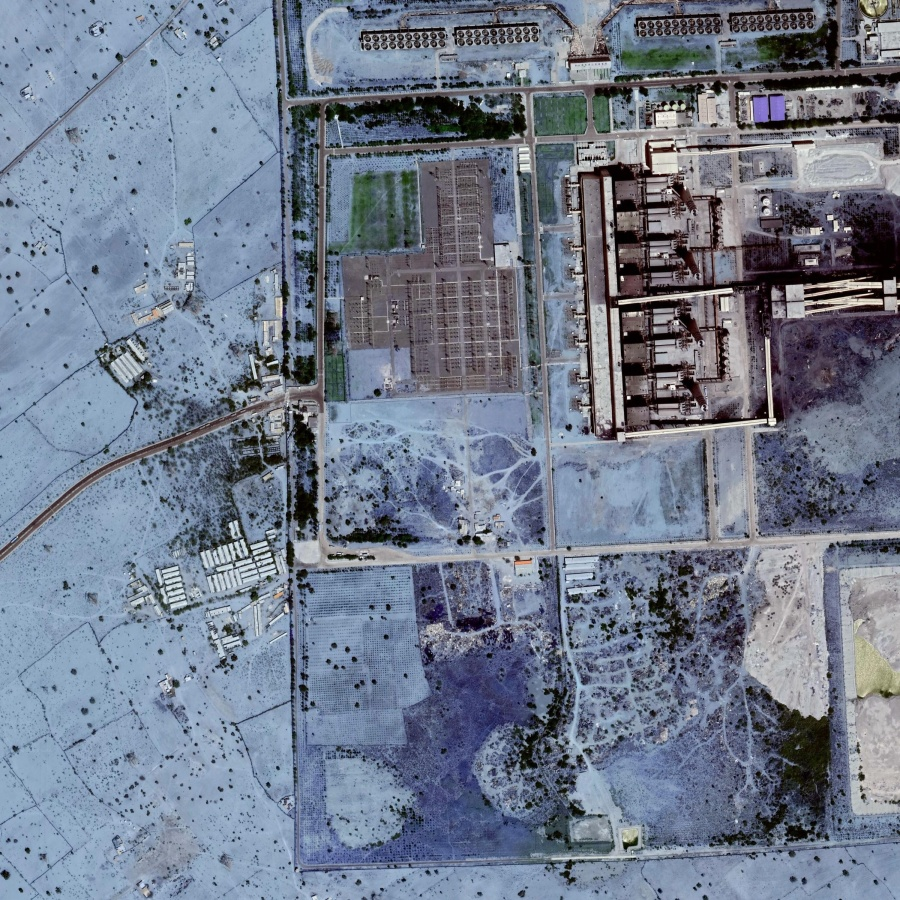PowerPlant: (573, 144, 772, 429)
